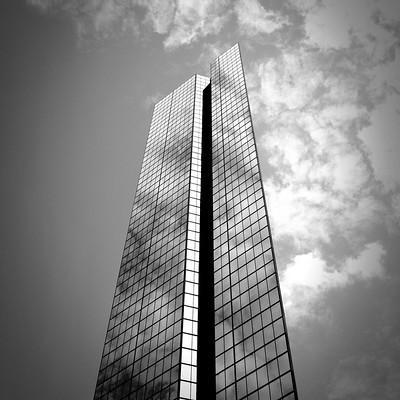building: (94, 40, 302, 398)
